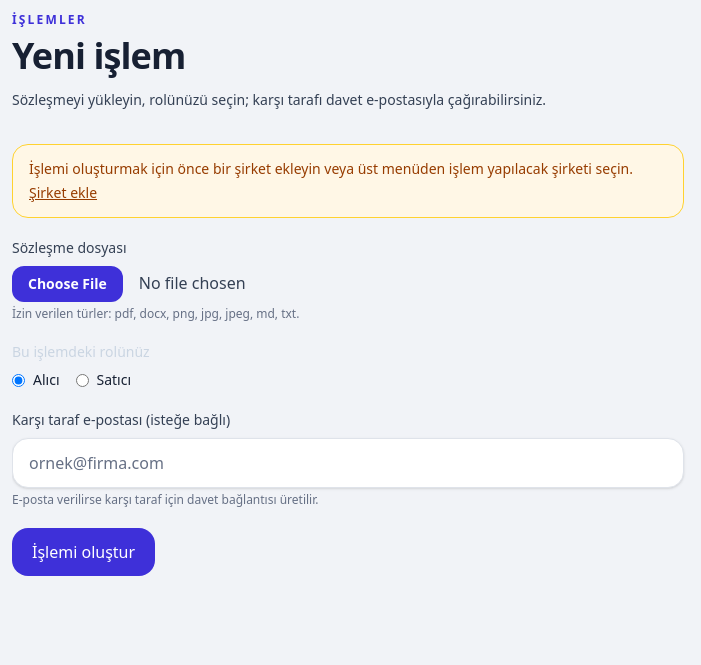
Test: TransactionCreatePage without a selected entity › keeps the form interactive and explains how to continue
This screenshot has width=701, height=665.
expect the file field labelled "Sözleşme dosyası" is enabled: met, box [12,266,684,302]
expect the radio button labelled "Alıcı" is enabled: met, box [12,374,25,386]
Click the button "İşlemi oluştur": click(84, 552) [12,528,155,576]
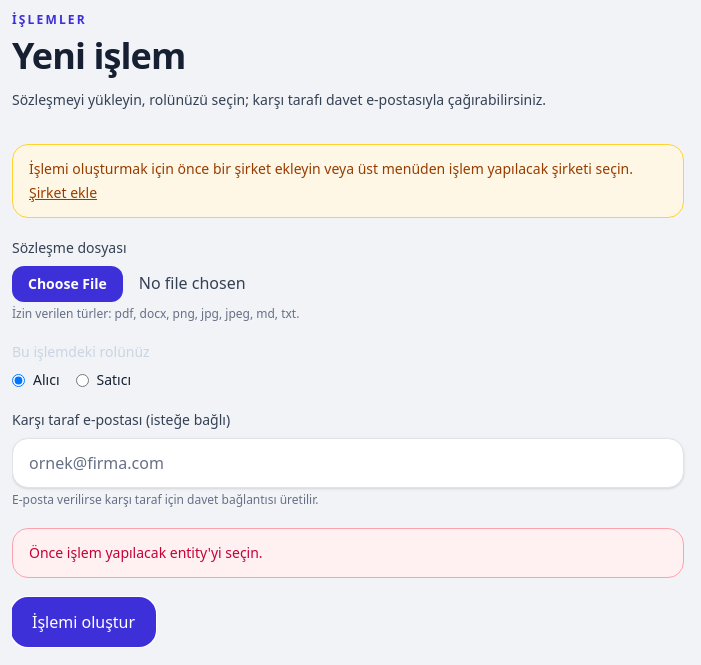
expect the text "Önce işlem yapılacak entity'yi seçin." is shown: met, box [12,528,684,578]
